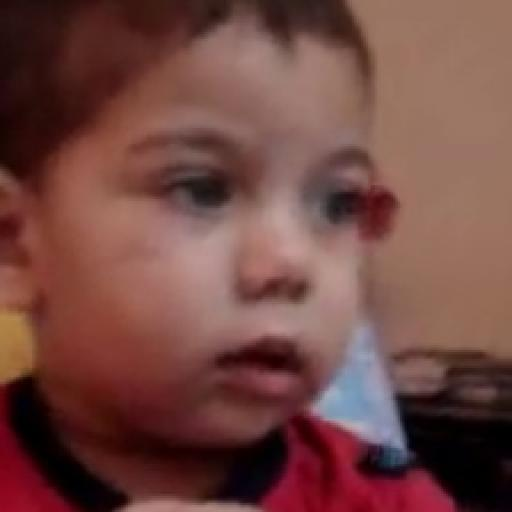Autism: (24, 32, 424, 458)
